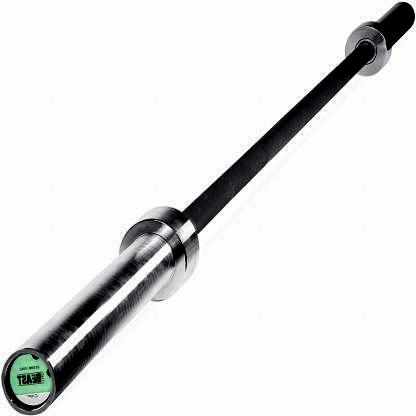Barbell: (0, 335, 67, 416)
